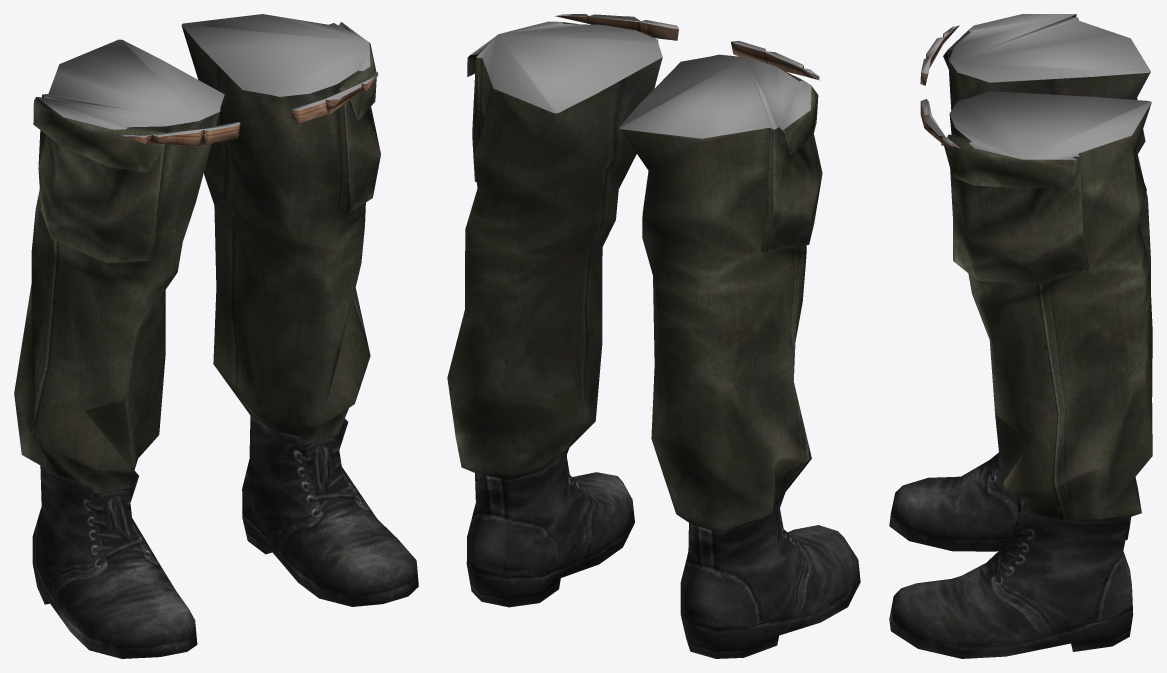
The model's file is Mecanico_piernas.obj.
3 views of the same model, side by side, from view 1: azimuth 30°, elevation 25°; view 2: azimuth 150°, elevation 25°; view 3: azimuth 270°, elevation 25° (orthographic). The views are drawn at different scales.
Visible parts, largest first — view 1: Mecanico_piernas; view 2: Mecanico_piernas; view 3: Mecanico_piernas.
Boxes of the visible parts, x1,y1,x2,y2 form: Mecanico_piernas: [14, 14, 418, 658]; Mecanico_piernas: [447, 14, 860, 658]; Mecanico_piernas: [889, 14, 1152, 658].
Size of the model in its own units: 0.4726 by 0.6831 by 0.3282.
Materials: 1 (1 with a texture image).
